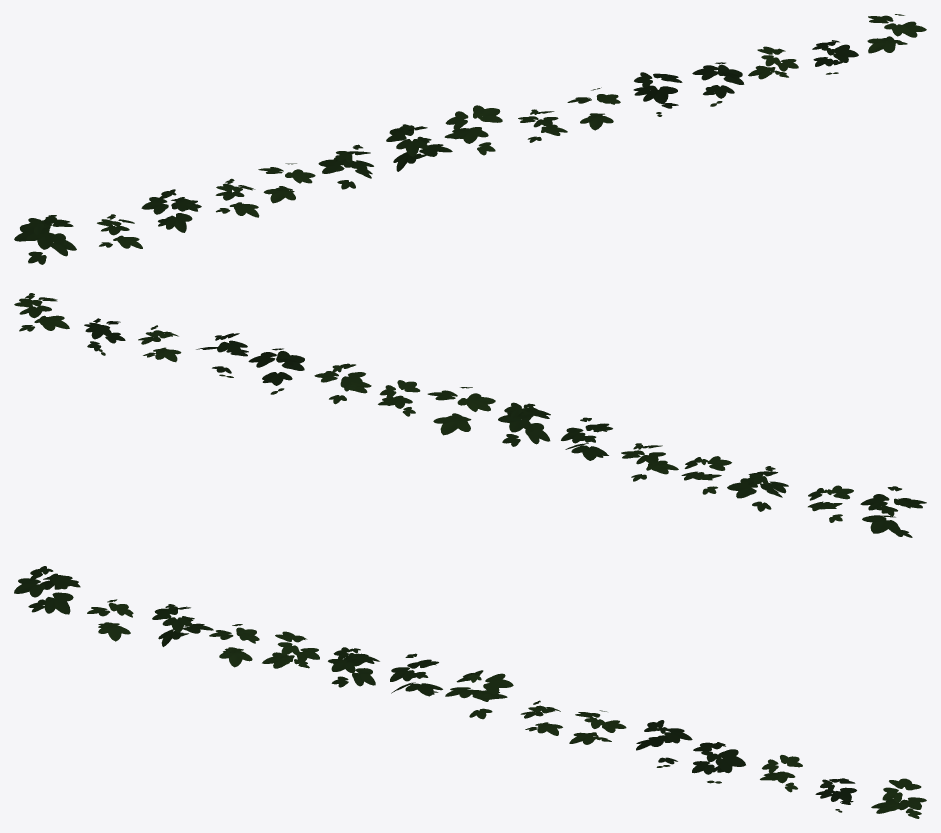
File: ROW_12_SEG4_foliage.dae
3 views of the same model, one above another, from view 1: azimuth 30°, elevation 25°; view 2: azimuth 150°, elevation 25°; view 3: azimuth 330°, elevation 25° (orthographic).
Parts seen in each view (by area): view 1: ROW_12_SEG4_foliage; view 2: ROW_12_SEG4_foliage; view 3: ROW_12_SEG4_foliage.
Part boxes in pixels (<box>): ROW_12_SEG4_foliage: <box>14,14,926,264</box>; ROW_12_SEG4_foliage: <box>14,293,926,537</box>; ROW_12_SEG4_foliage: <box>14,566,926,818</box>.
Size of the model in its own units: 4.55 by 0.341 by 0.2565.
